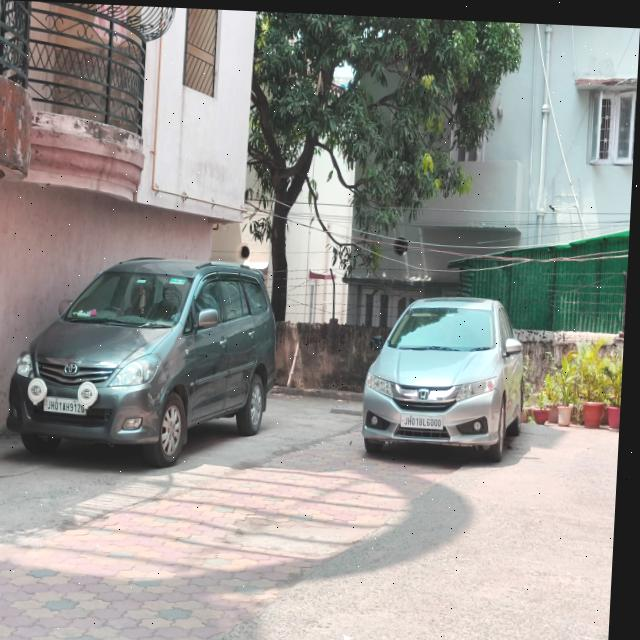car: (6, 238, 289, 478), (362, 278, 540, 475)
